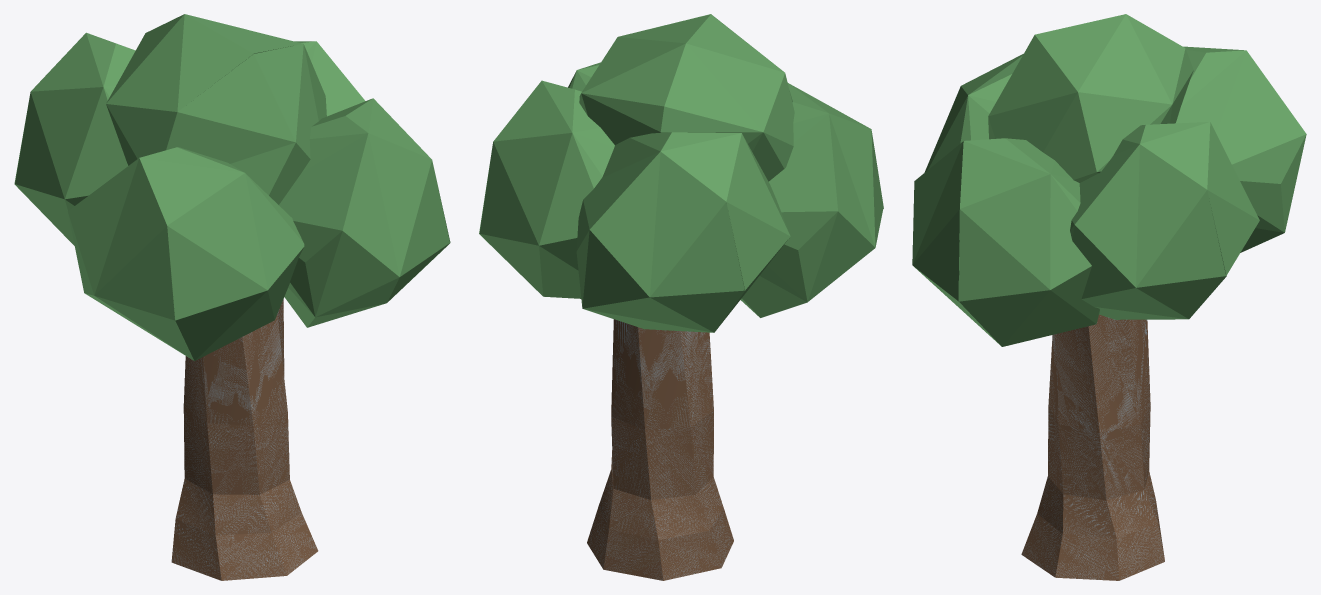
Rendered from Tree.fbx.
The picture shows the model from 3 angles, left to right: view 1: azimuth 30°, elevation 25°; view 2: azimuth 150°, elevation 25°; view 3: azimuth 270°, elevation 25°; orthographic projection. The views are drawn at different scales.
Parts seen in each view (by area): view 1: Model; view 2: Model; view 3: Model.
Boxes of the visible parts, x1,y1,x2,y2 form: Model: (14,14,450,580); Model: (479,14,883,580); Model: (912,14,1306,580).
Bounding box in the file's own units: 5.06 × 7.69 × 5.31.
